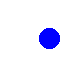circle: (39, 28, 59, 48)
